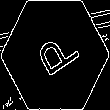P_SW: (28, 26, 82, 84)
